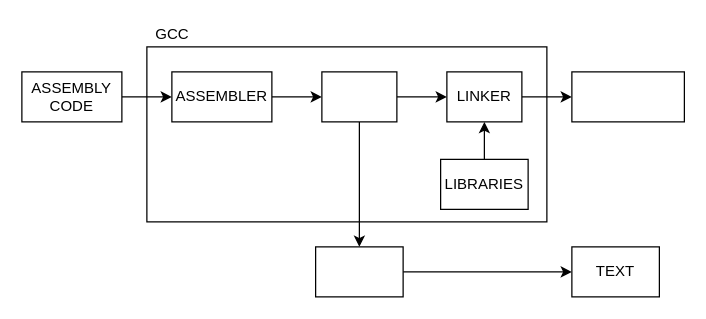
Image size: 706x319. Some labels were removed from this diagram. The centre of each missing label's shape, as x and y in pixels:
"EXECUTABLE FILE FORMAT" belongs at (627,96).
"OBJDUMP" belongs at (358,271).
"OBJECT FILE" belongs at (359,96).
